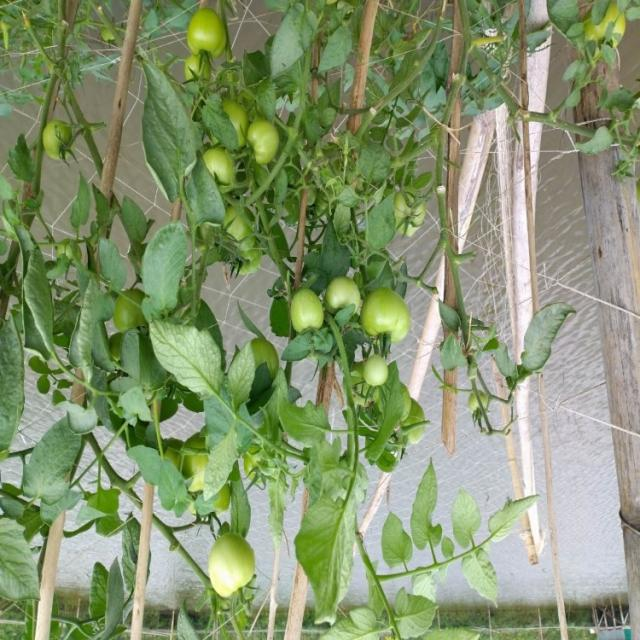tomato: (194, 521, 269, 602), (373, 176, 435, 256), (363, 283, 415, 372), (578, 5, 638, 72), (185, 3, 243, 64), (195, 137, 243, 202), (286, 280, 325, 352), (356, 348, 403, 402), (249, 324, 292, 382), (329, 271, 371, 329), (242, 116, 286, 167), (41, 110, 83, 155)
